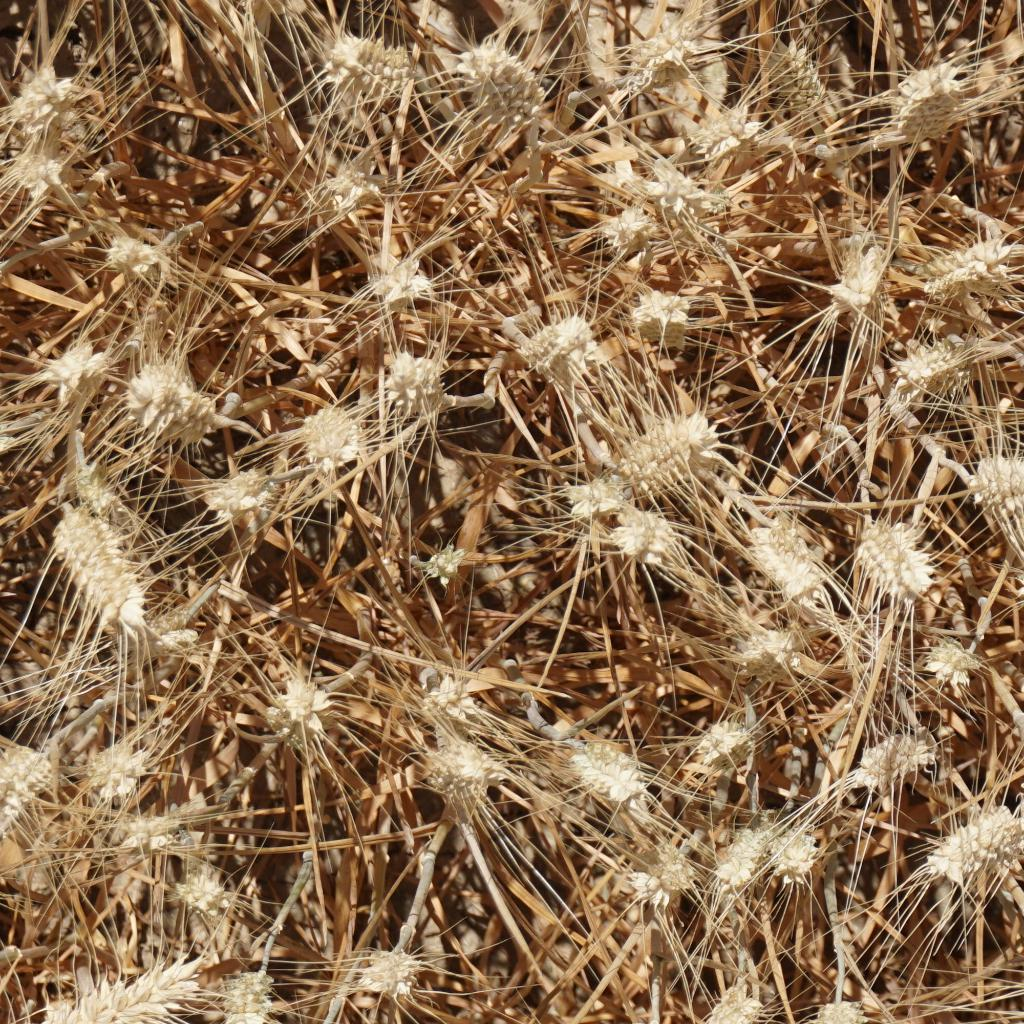0-0: (45, 489, 153, 640), (37, 950, 211, 1024), (605, 404, 728, 498), (451, 36, 564, 138), (314, 24, 424, 117), (892, 52, 973, 167), (846, 518, 943, 610), (845, 715, 937, 811), (922, 801, 1024, 885), (878, 330, 989, 407), (554, 725, 647, 813), (4, 64, 105, 142), (132, 370, 230, 442), (251, 667, 334, 748), (364, 244, 454, 318), (748, 519, 823, 606), (951, 439, 1024, 525), (917, 234, 1018, 296), (821, 237, 892, 325), (105, 604, 193, 675), (644, 154, 725, 229), (396, 661, 485, 726), (608, 503, 689, 574), (628, 287, 707, 358), (516, 311, 607, 372), (627, 834, 699, 911), (0, 742, 53, 846), (422, 734, 499, 805), (388, 342, 456, 421), (622, 13, 703, 78), (686, 718, 759, 789), (37, 334, 118, 397), (84, 741, 164, 803), (3, 149, 85, 209), (685, 103, 760, 168), (352, 939, 427, 1004), (198, 453, 269, 521), (303, 393, 362, 472), (708, 822, 768, 898), (167, 862, 243, 921), (919, 628, 982, 695), (774, 35, 826, 116), (733, 620, 797, 685), (117, 811, 194, 864), (769, 825, 831, 890), (307, 166, 373, 226), (561, 472, 627, 526), (99, 231, 166, 282), (220, 967, 278, 1024), (593, 199, 652, 255), (704, 974, 769, 1024), (411, 537, 468, 589), (802, 989, 880, 1024), (0, 0, 4, 6)
